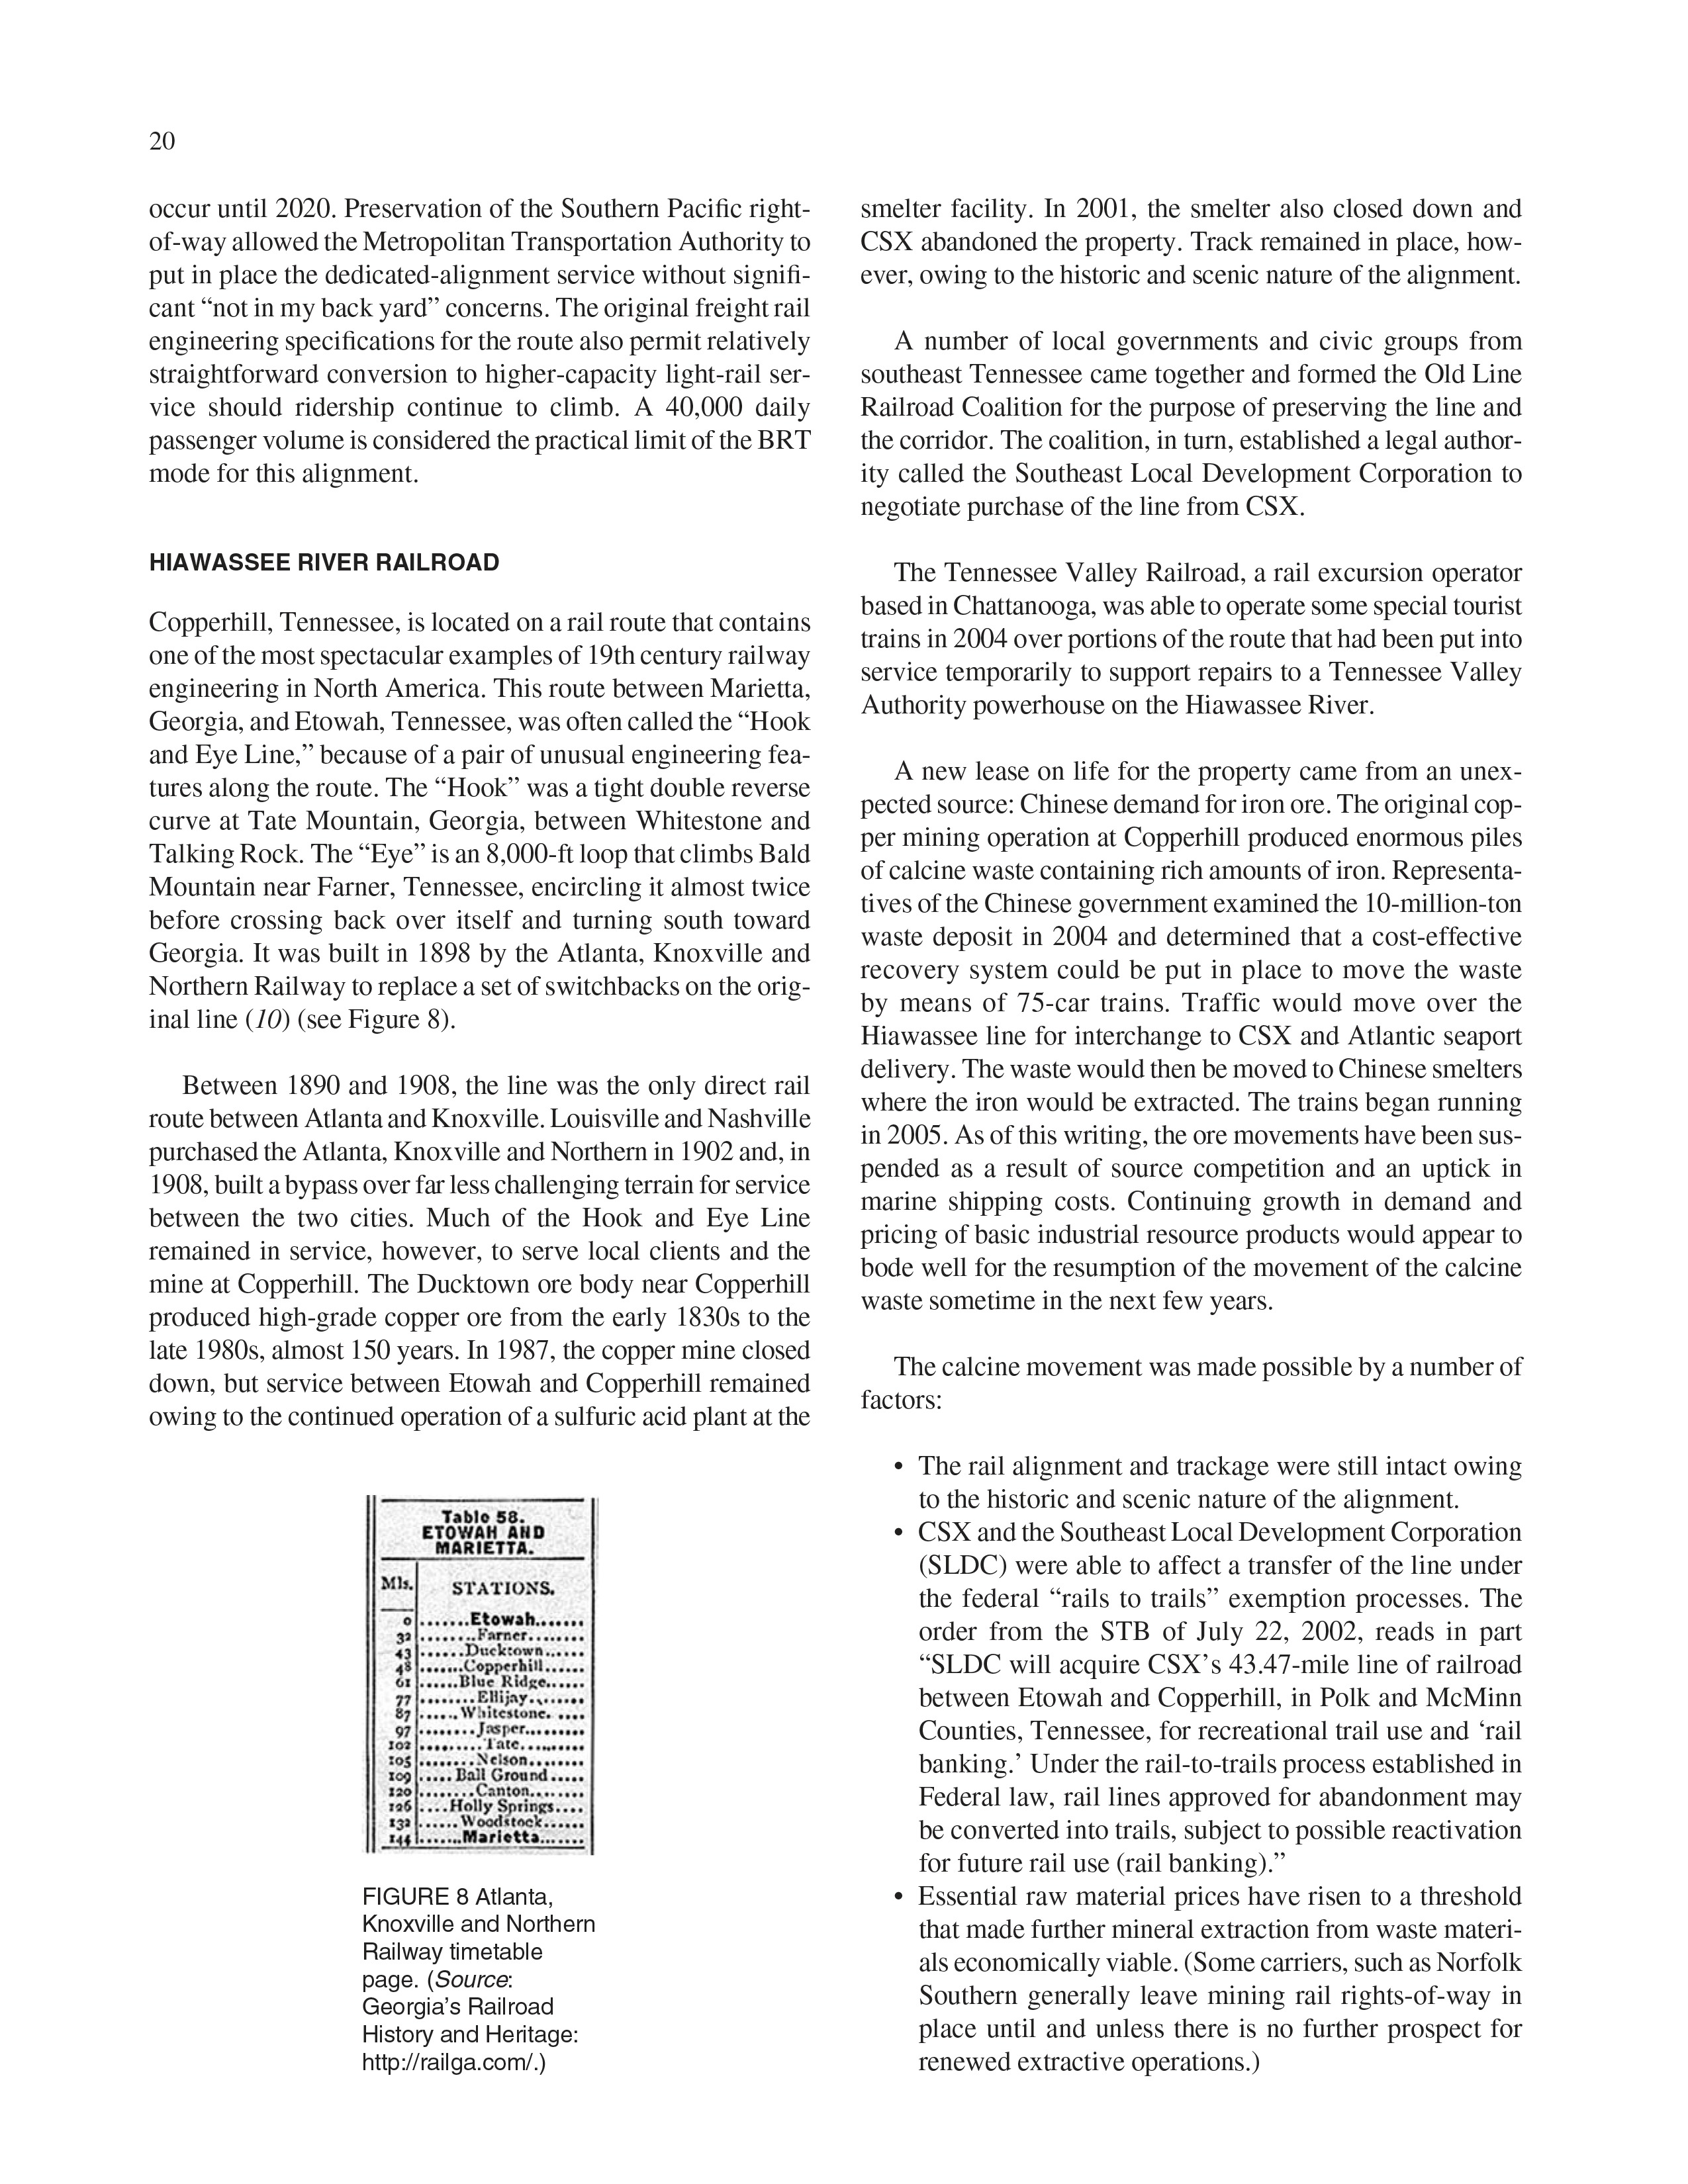caption: (360, 1870, 578, 2088)
list: (876, 1447, 1527, 2104)
section: (138, 532, 512, 592)
table: (356, 1494, 608, 1874)
text: (860, 760, 1521, 1319), (133, 601, 816, 1037), (137, 1071, 816, 1438), (126, 202, 816, 486), (856, 333, 1530, 528), (849, 562, 1527, 734), (860, 195, 1523, 298), (849, 1351, 1546, 1415)
